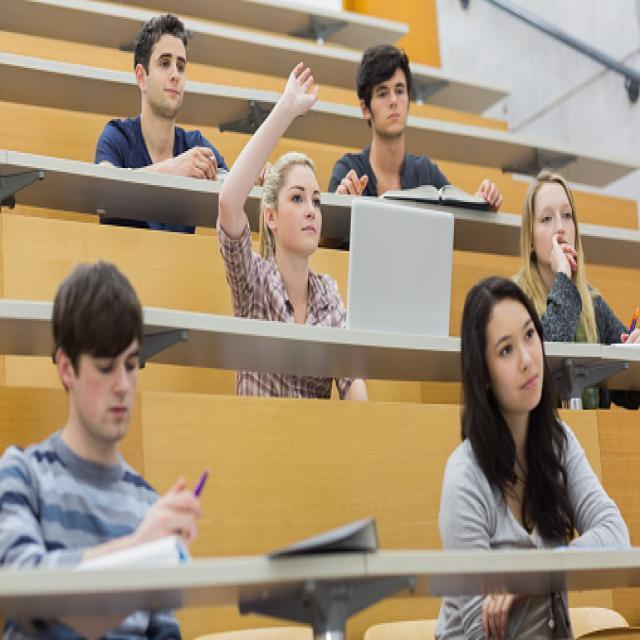Looking forward: (486, 300, 545, 412), (532, 184, 578, 266), (149, 36, 187, 114), (372, 78, 407, 134)
Raising hand: (214, 66, 348, 330)
Reading-writing: (0, 263, 237, 566)
